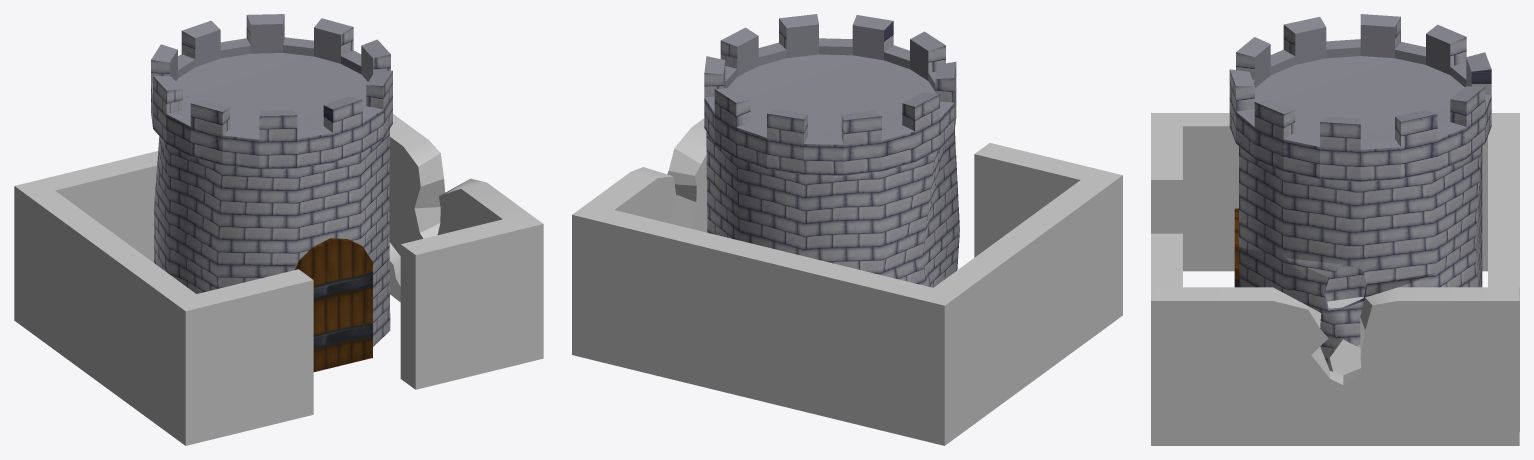
The model's file is Tower.fbx.
The picture shows the model from 3 angles, left to right: view 1: azimuth 30°, elevation 25°; view 2: azimuth 150°, elevation 25°; view 3: azimuth 270°, elevation 25°; orthographic projection. The views are drawn at different scales.
Visible parts, largest first — view 1: pPlane4, pasted__pCube5, pasted__polySurface4, polySurface1, pCube6, pasted__polySurface2, pasted__pCube7, pCube11; view 2: pasted__pCube7, pasted__pCube5, pasted__polySurface4, polySurface1, pCube6, pPlane4; view 3: pCube6, pasted__polySurface4, polySurface1, pasted__pCube5, pasted__pCube7, pPlane4, pCube11, pasted__polySurface2.
Part boxes in pixels (x1,y1,x2,y2): pPlane4: [197, 219, 517, 439]; pasted__pCube5: [14, 180, 211, 445]; pasted__polySurface4: [151, 14, 392, 169]; polySurface1: [154, 129, 390, 346]; pCube6: [389, 114, 543, 364]; pasted__polySurface2: [295, 238, 372, 371]; pasted__pCube7: [40, 151, 158, 262]; pCube11: [389, 242, 400, 302]; pasted__pCube7: [598, 210, 932, 439]; pasted__pCube5: [918, 168, 1122, 445]; pasted__polySurface4: [704, 14, 956, 175]; polySurface1: [706, 129, 959, 287]; pCube6: [572, 118, 707, 361]; pPlane4: [974, 143, 1095, 257]; pCube6: [1151, 287, 1519, 445]; pasted__polySurface4: [1229, 14, 1491, 181]; polySurface1: [1239, 146, 1482, 370]; pasted__pCube5: [1151, 113, 1519, 271]; pasted__pCube7: [1488, 126, 1519, 431]; pPlane4: [1151, 126, 1182, 287]; pCube11: [1327, 338, 1361, 375]; pasted__polySurface2: [1234, 208, 1239, 287].
Size of the model in its own units: 4173 by 2951 by 3458.
